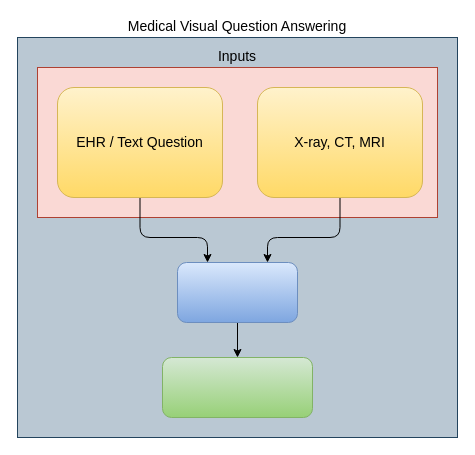
This 475x455 diagram has some shape labels left out. Each missing label, with the centre of its shape:
"AI Model" goes at (237,292).
"Answer (supports diagnosis)" goes at (237,387).
